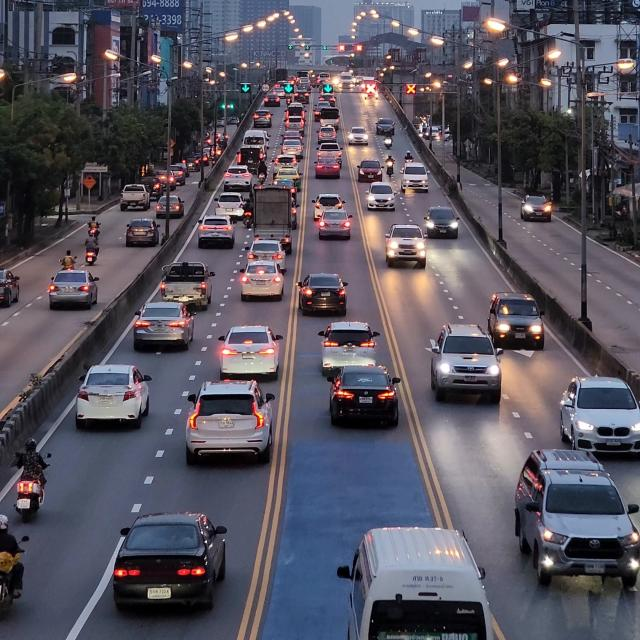Car: (338, 523, 496, 640), (516, 450, 640, 584), (118, 514, 232, 610), (185, 381, 278, 461), (562, 374, 640, 454), (432, 327, 504, 404), (78, 362, 157, 428), (332, 365, 400, 429), (216, 325, 286, 378), (318, 321, 380, 378), (490, 290, 546, 352), (134, 304, 198, 350), (163, 262, 217, 313), (297, 273, 351, 320), (238, 261, 287, 302), (51, 271, 103, 306), (384, 224, 428, 265), (194, 218, 238, 252), (426, 206, 463, 239), (519, 192, 555, 225), (125, 220, 163, 250), (316, 211, 356, 238)
